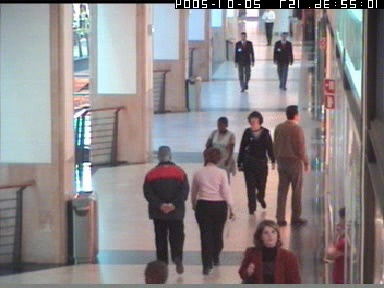person: (143, 144, 187, 279), (191, 149, 236, 275), (237, 219, 302, 284), (274, 106, 308, 226), (239, 110, 275, 214), (204, 116, 238, 189), (326, 206, 344, 284), (273, 31, 292, 91), (235, 32, 254, 91), (144, 260, 168, 284), (260, 9, 276, 45)
